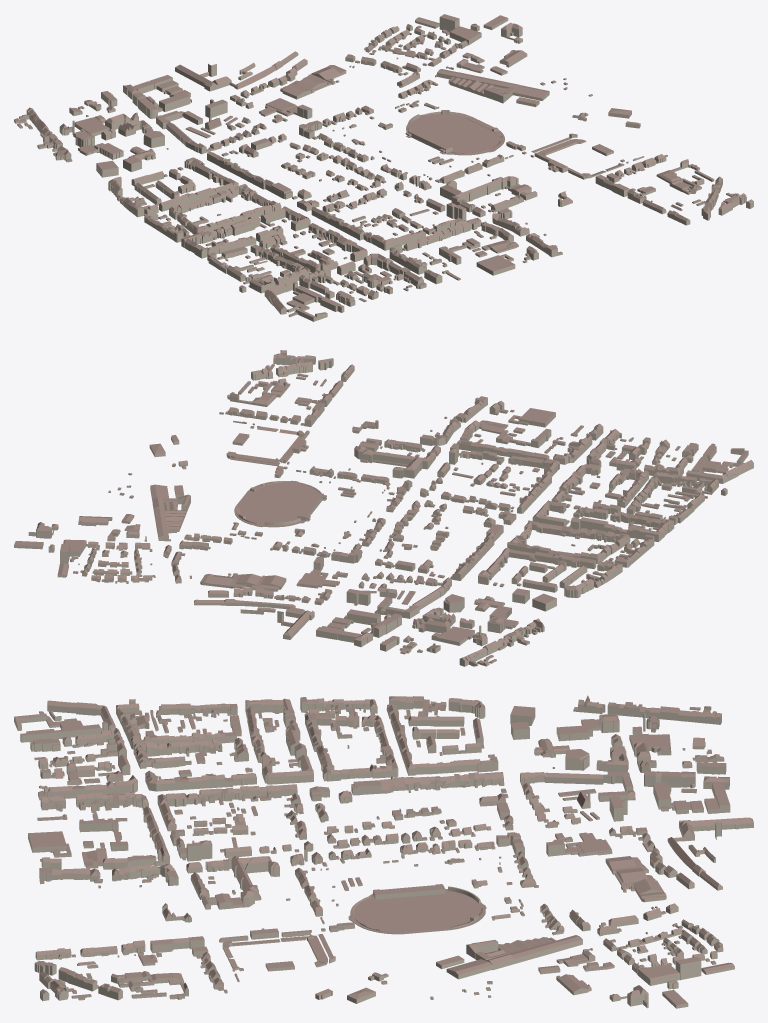
3 views of the same model, one above another, from view 1: azimuth 30°, elevation 25°; view 2: azimuth 150°, elevation 25°; view 3: azimuth 270°, elevation 25° (orthographic). The views are drawn at different scales.
Visible parts, largest first — view 1: LoD2_32_321_5672_1_NW; view 2: LoD2_32_321_5672_1_NW; view 3: LoD2_32_321_5672_1_NW.
Part boxes in pixels (<box>): LoD2_32_321_5672_1_NW: <box>14,14,753,321</box>; LoD2_32_321_5672_1_NW: <box>14,350,753,666</box>; LoD2_32_321_5672_1_NW: <box>14,695,753,1008</box>.
Size of the model in its own units: 1036 by 37.63 by 1089.
